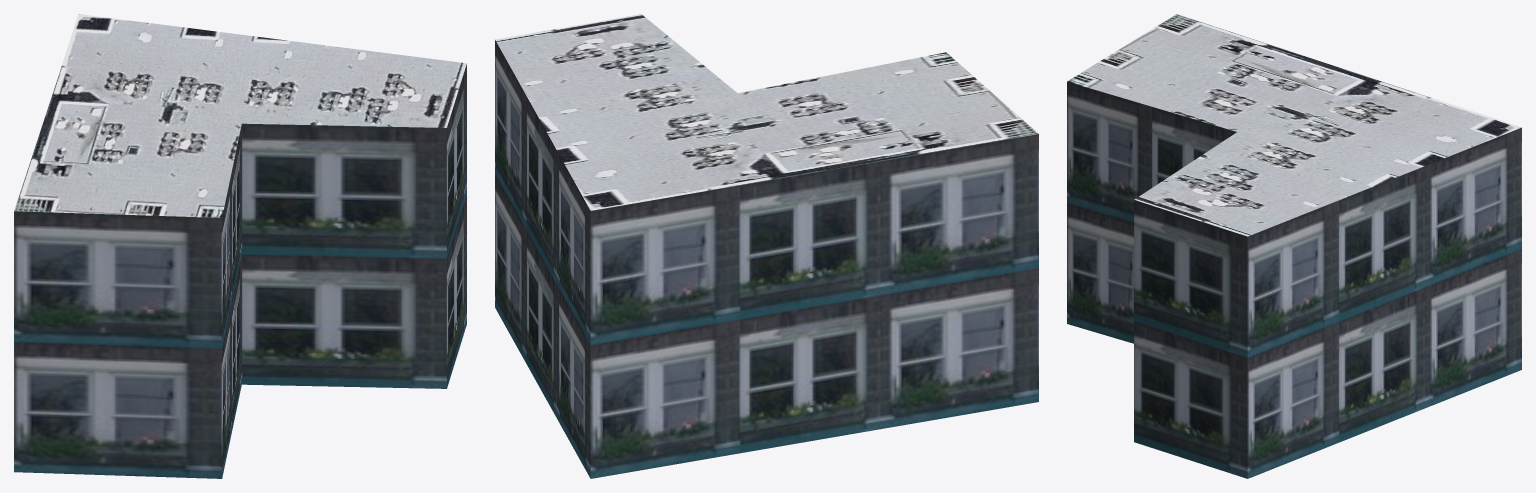
The model's file is ResTex__5160.fbx.
3 renders of one model, left to right at view 1: azimuth 30°, elevation 25°; view 2: azimuth 150°, elevation 25°; view 3: azimuth 270°, elevation 25°, orthographic. The views are drawn at different scales.
Parts seen in each view (by area): view 1: CityEngineMaterial_11_m, CityEngineMaterial_8_m; view 2: CityEngineMaterial_11_m, CityEngineMaterial_8_m; view 3: CityEngineMaterial_11_m, CityEngineMaterial_8_m.
Part boxes in pixels (left/top/right/bottom): CityEngineMaterial_11_m: left=14, top=64, right=466, bottom=478; CityEngineMaterial_8_m: left=14, top=14, right=466, bottom=217; CityEngineMaterial_11_m: left=495, top=40, right=1038, bottom=478; CityEngineMaterial_8_m: left=495, top=14, right=1038, bottom=210; CityEngineMaterial_11_m: left=1067, top=81, right=1521, bottom=478; CityEngineMaterial_8_m: left=1067, top=14, right=1521, bottom=236.
Size of the model in its own units: 11.82 by 6 by 10.2.
Materials: 2 (2 with a texture image).
